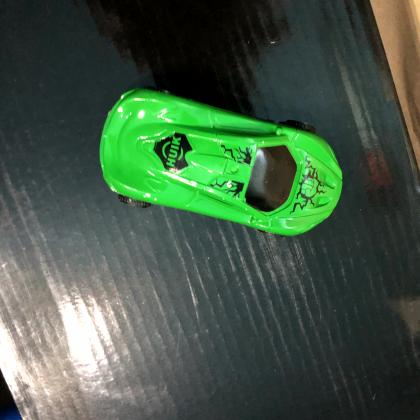Car: (98, 84, 344, 240)
